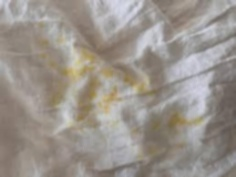mustard: (106, 61, 152, 99), (45, 80, 68, 118), (52, 57, 81, 80), (75, 94, 95, 126), (80, 47, 100, 74), (95, 87, 116, 112), (144, 148, 186, 160), (87, 78, 105, 103), (168, 113, 200, 126), (137, 123, 165, 132), (36, 38, 49, 53), (56, 36, 66, 44), (36, 23, 47, 28)
